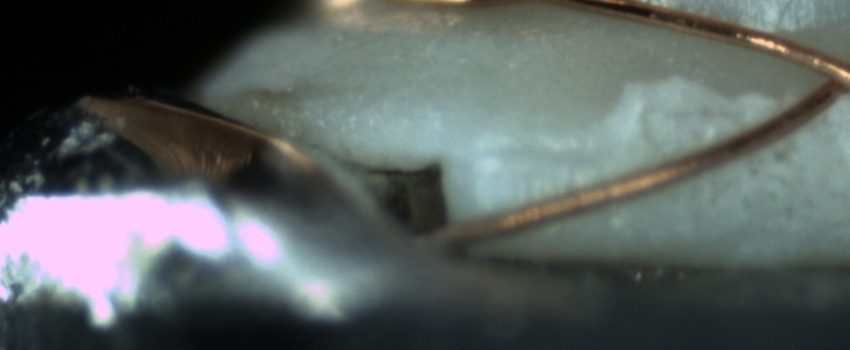CL: (801, 44, 849, 111)
DL: (475, 122, 612, 185)
